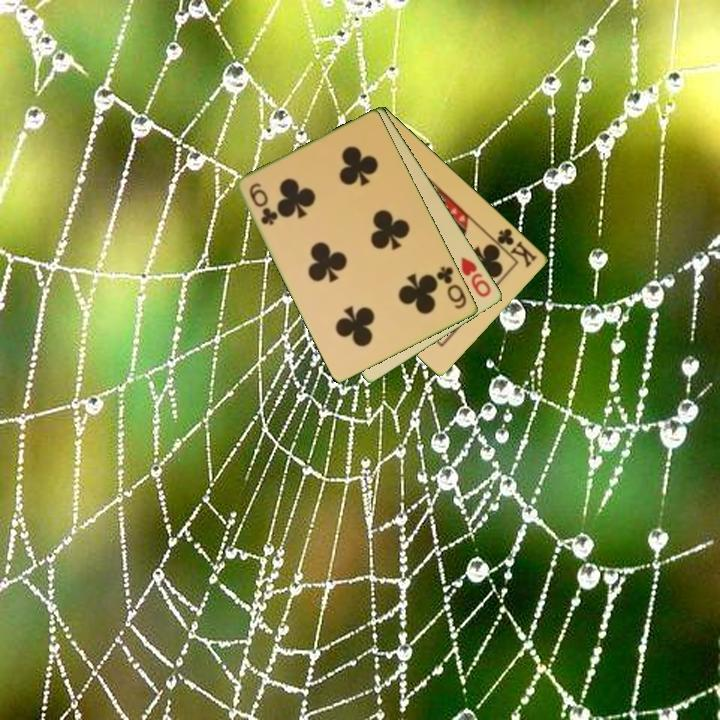6c: (433, 262, 470, 312), (246, 179, 280, 228)
9h: (458, 253, 494, 300)
Kc: (488, 225, 541, 270)
